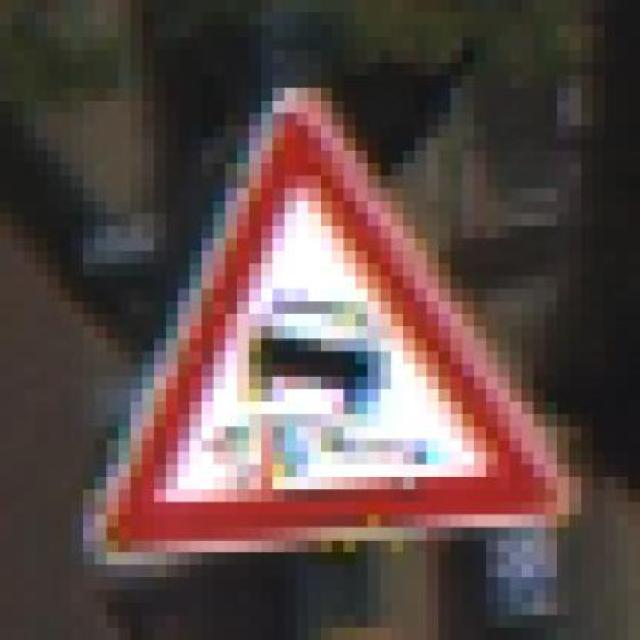Slippery Road Ahead: (70, 62, 582, 578)
